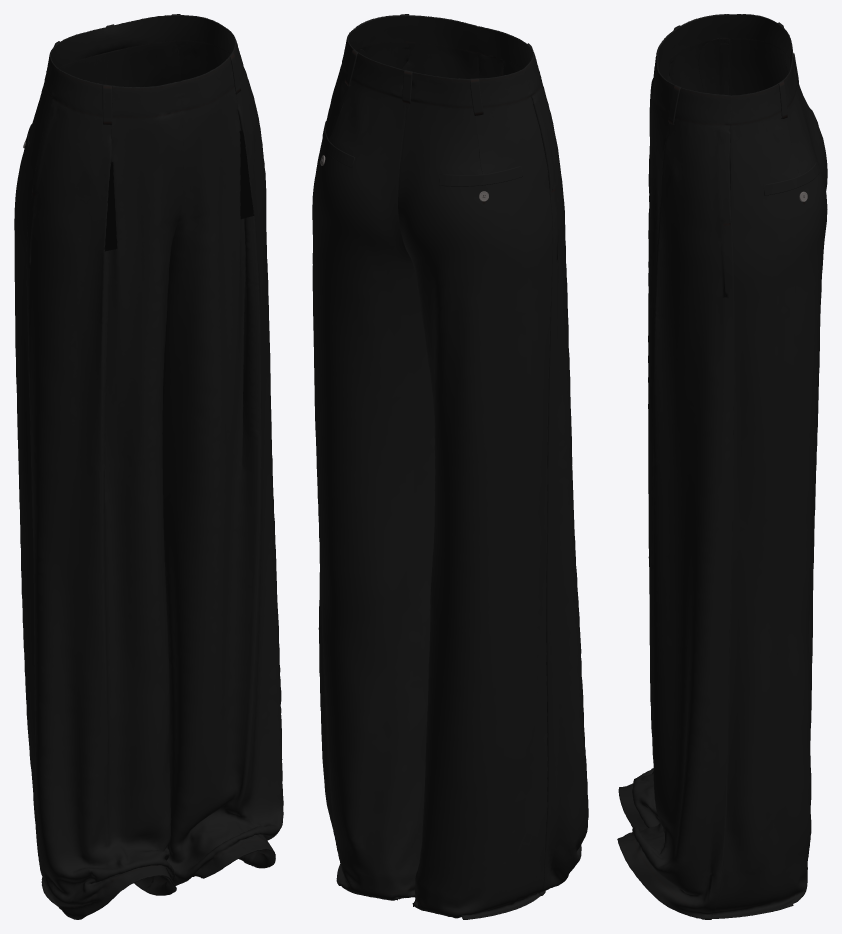
File: jeans-wide.glb
3 views of the same model, side by side, from view 1: azimuth 30°, elevation 25°; view 2: azimuth 150°, elevation 25°; view 3: azimuth 270°, elevation 25° (orthographic).
Visible parts, largest first — view 1: Object_4, Object_5, Object_7, Object_2, Object_6, Object_8; view 2: Object_7, Object_6, Object_4, Object_5, Object_3, Object_8, Object_2; view 3: Object_6, Object_5, Object_7, Object_4, Object_2, Object_8.
Boxes of the visible parts, x1,y1,x2,y2 form: Object_4: (26,69,184,919); Object_5: (162,28,283,885); Object_7: (14,27,154,906); Object_2: (51,15,254,251); Object_6: (104,15,244,861); Object_8: (25,14,240,152); Object_7: (398,68,552,919); Object_6: (312,28,435,900); Object_4: (477,26,588,895); Object_5: (355,15,479,78); Object_3: (353,16,478,52); Object_8: (322,14,533,186); Object_2: (348,26,532,78); Object_6: (712,56,827,918); Object_5: (617,61,734,919); Object_7: (728,14,827,742); Object_4: (618,14,730,830); Object_2: (657,14,792,246); Object_8: (668,22,819,195).
Size of the model in its own units: 354 by 1152 by 267.
2 materials, 1 textured.
